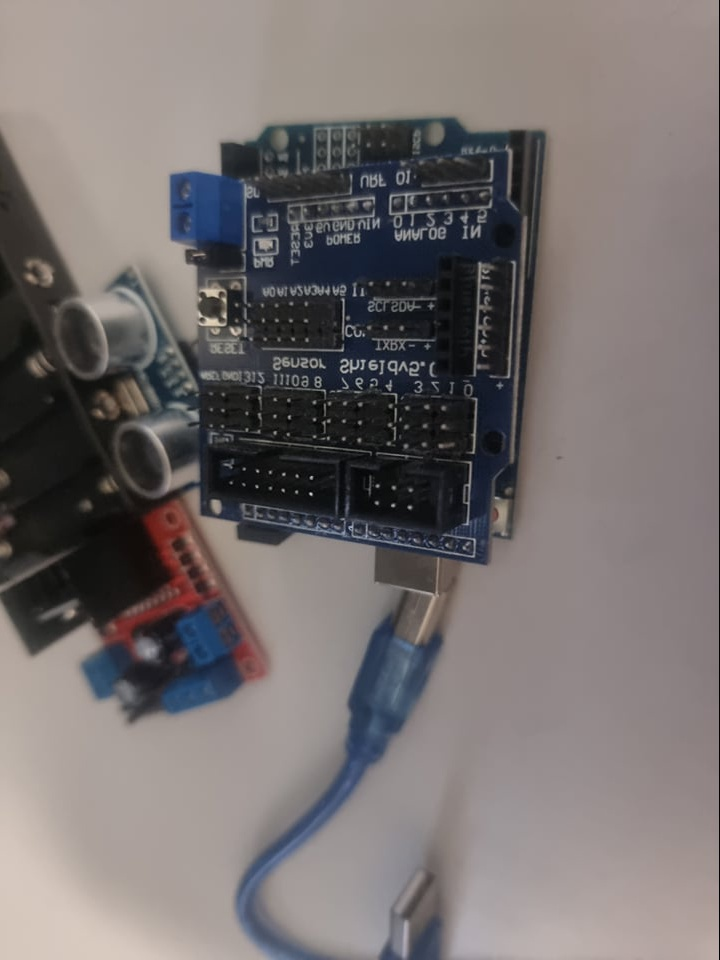5V EXPANSION: (170, 169, 493, 547)
MOTOR: (3, 511, 263, 717)
SENSOR: (59, 277, 208, 489)
